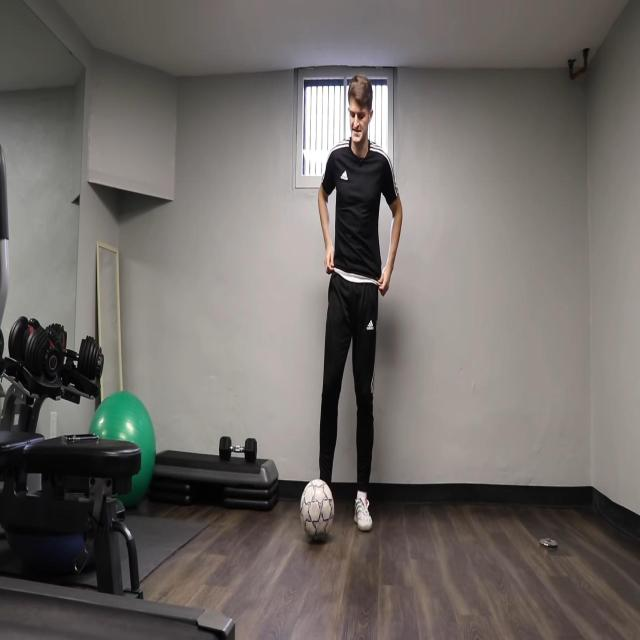Soccer Ball: (300, 479, 334, 544)
